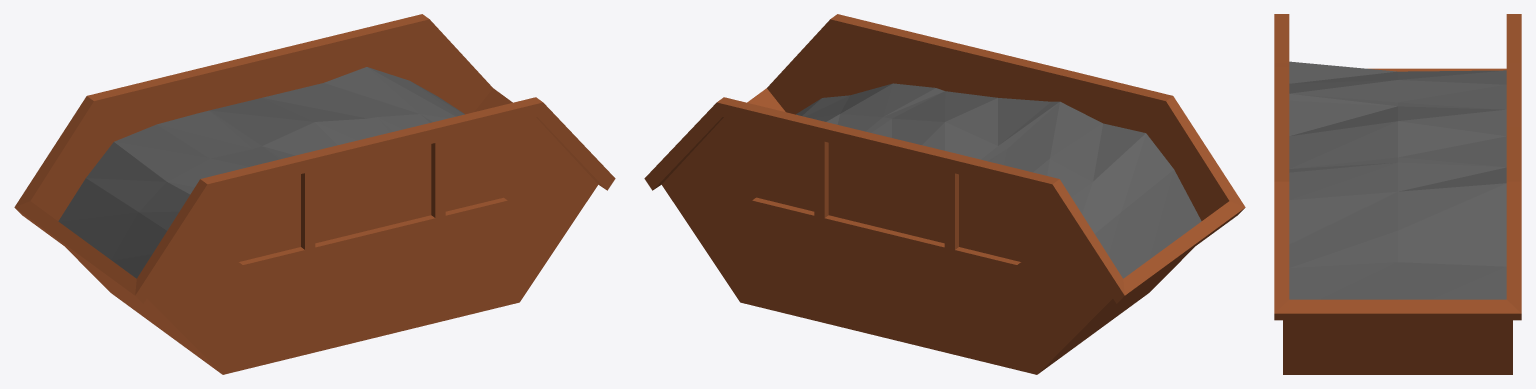
The picture shows the model from 3 angles, left to right: view 1: azimuth 30°, elevation 25°; view 2: azimuth 150°, elevation 25°; view 3: azimuth 270°, elevation 25°; orthographic projection. The views are drawn at different scales.
Visible parts, largest first — view 1: Container; view 2: Container; view 3: Container.
Boxes of the visible parts, x1,y1,x2,y2 form: Container: [14, 14, 615, 374]; Container: [644, 14, 1245, 374]; Container: [1274, 14, 1521, 374].
Size of the model in its own units: 3.74 by 1.48 by 1.63.
